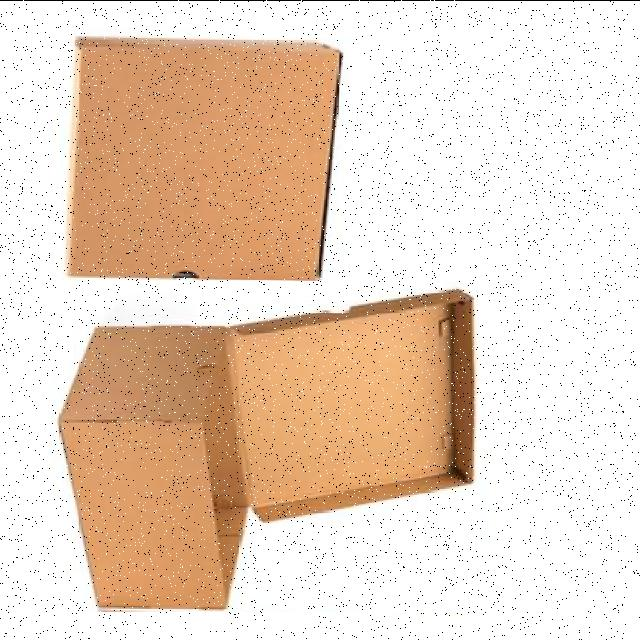defect: (43, 280, 482, 611)
normal: (49, 25, 369, 280)
